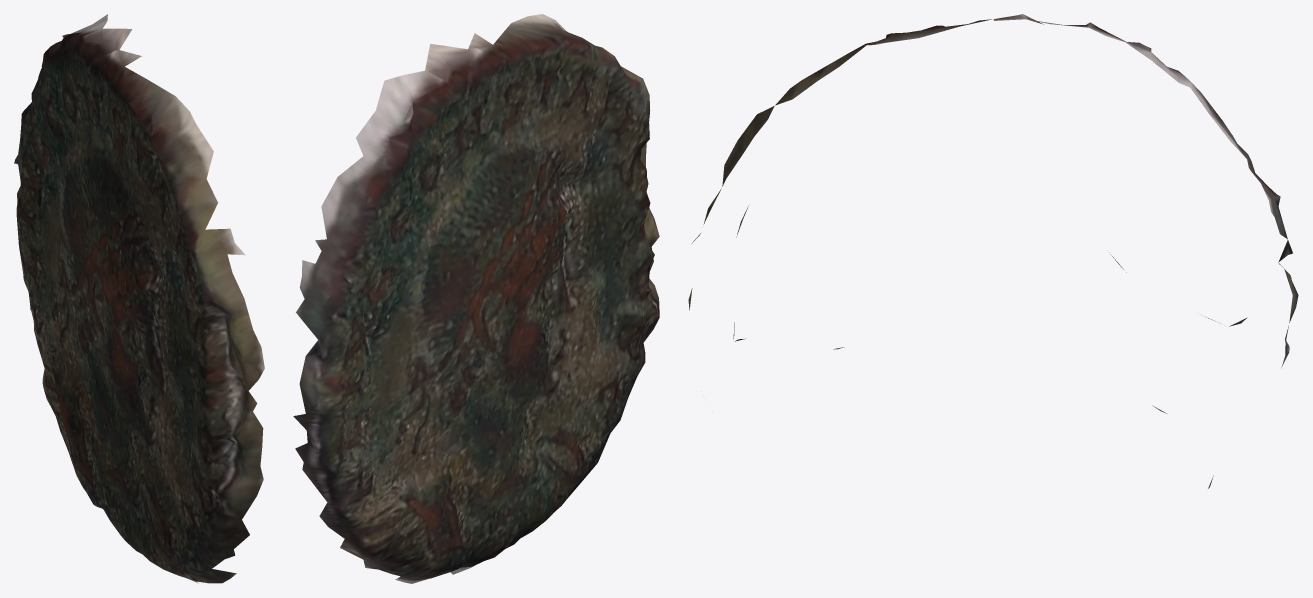
The model's file is cons.glb.
3 views of the same model, side by side, from view 1: azimuth 30°, elevation 25°; view 2: azimuth 150°, elevation 25°; view 3: azimuth 270°, elevation 25° (orthographic). The views are drawn at different scales.
Size of the model in its own units: 83.97 by 452 by 445.
1 material, 1 textured.
